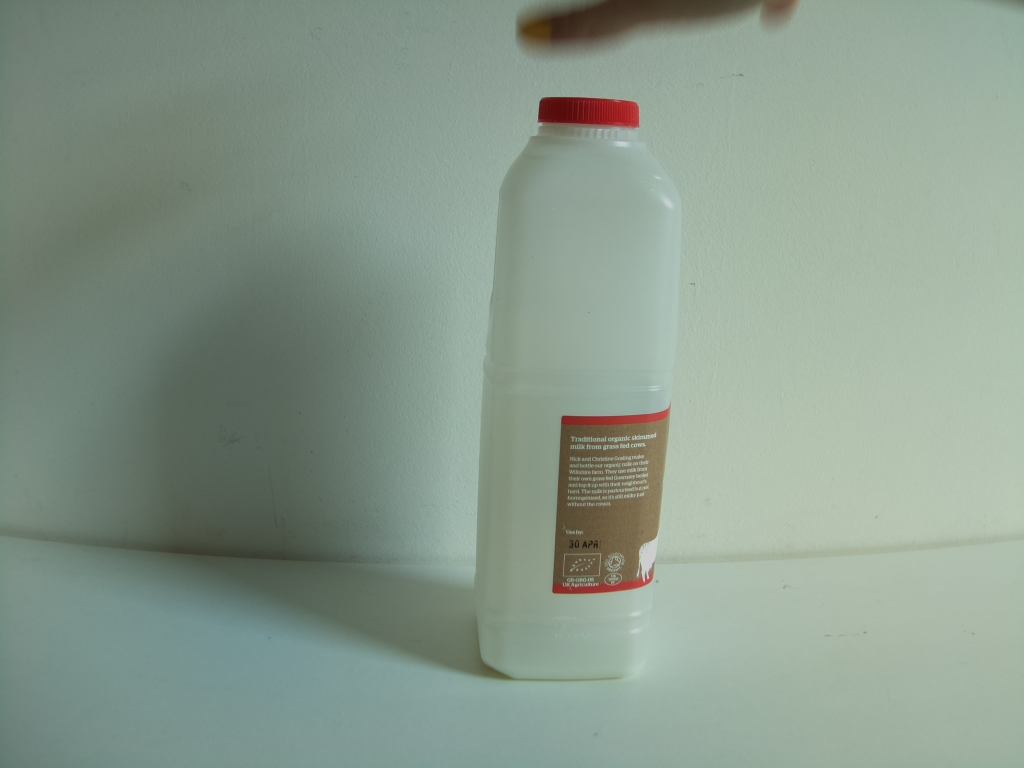milk: (470, 87, 684, 696)
